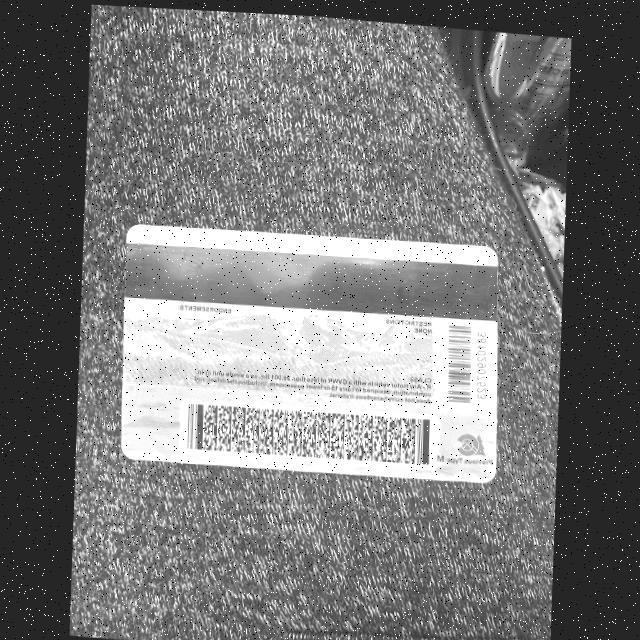card: (121, 225, 496, 482)
